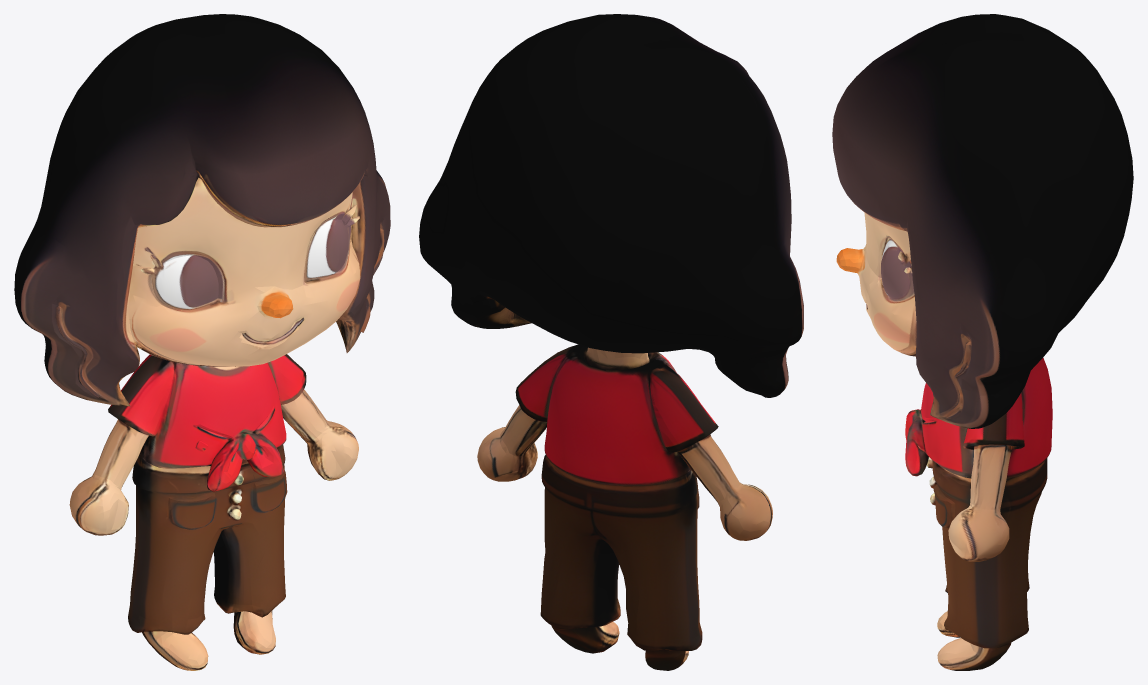
File: valerie1.glb
The picture shows the model from 3 angles, left to right: view 1: azimuth 30°, elevation 25°; view 2: azimuth 150°, elevation 25°; view 3: azimuth 270°, elevation 25°; orthographic projection. The views are drawn at different scales.
Parts seen in each view (by area): view 1: model; view 2: model; view 3: model.
Part boxes in pixels (left/top/right/bottom): model: left=14, top=14, right=390, bottom=670; model: left=419, top=14, right=803, bottom=670; model: left=832, top=14, right=1133, bottom=670.
Bounding box in the file's own units: 1.14 × 1.84 × 0.8106.
1 material, 1 textured.
